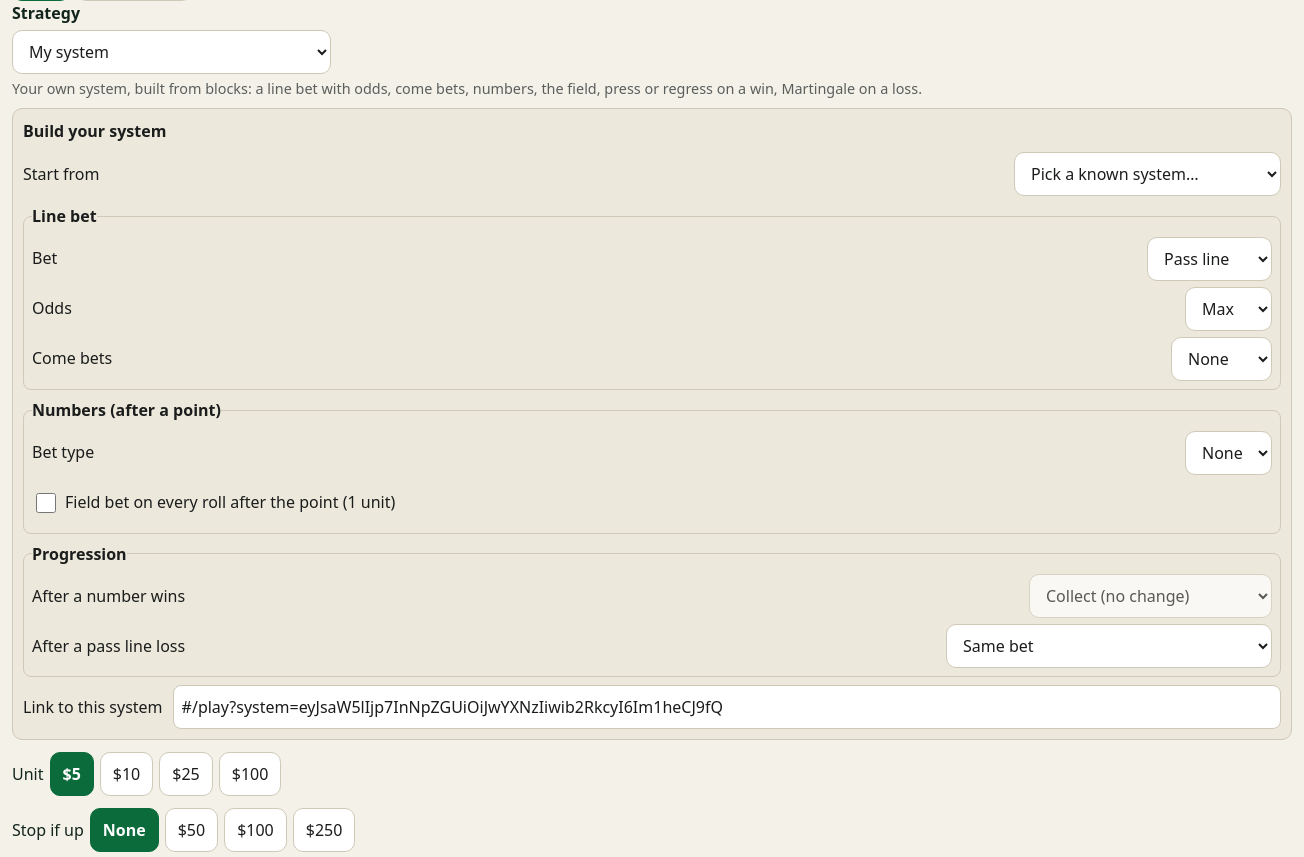
StrategyBuilder in the auto-roll panel › builds a Molly with a Martingale guard and runs it
Select "Up to 2" in the dropdown labelled "Come bets": (1222, 359) [1171,337,1272,381]
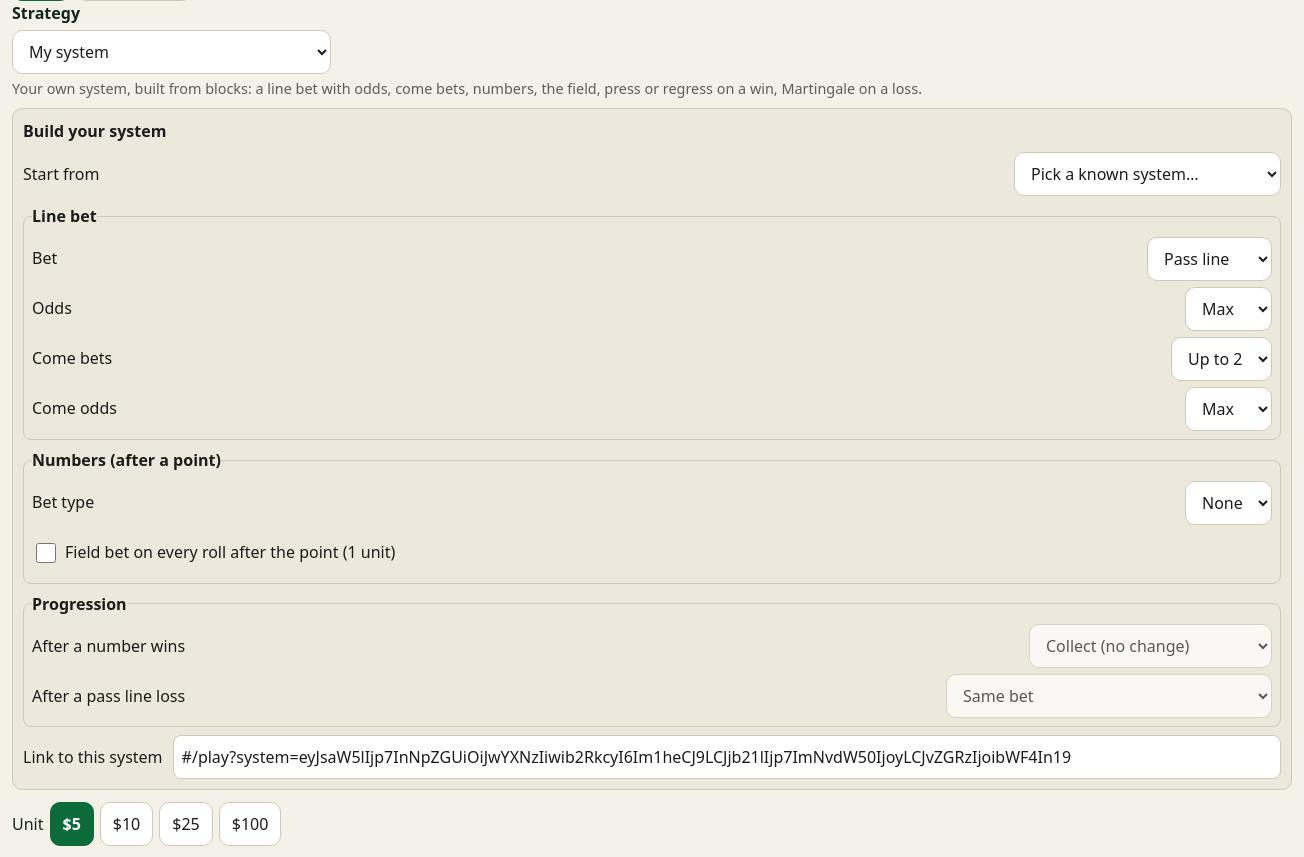
Select "2x" in the dropdown labelled "Come odds": (1228, 409) [1185,387,1272,431]
(page scrolled)
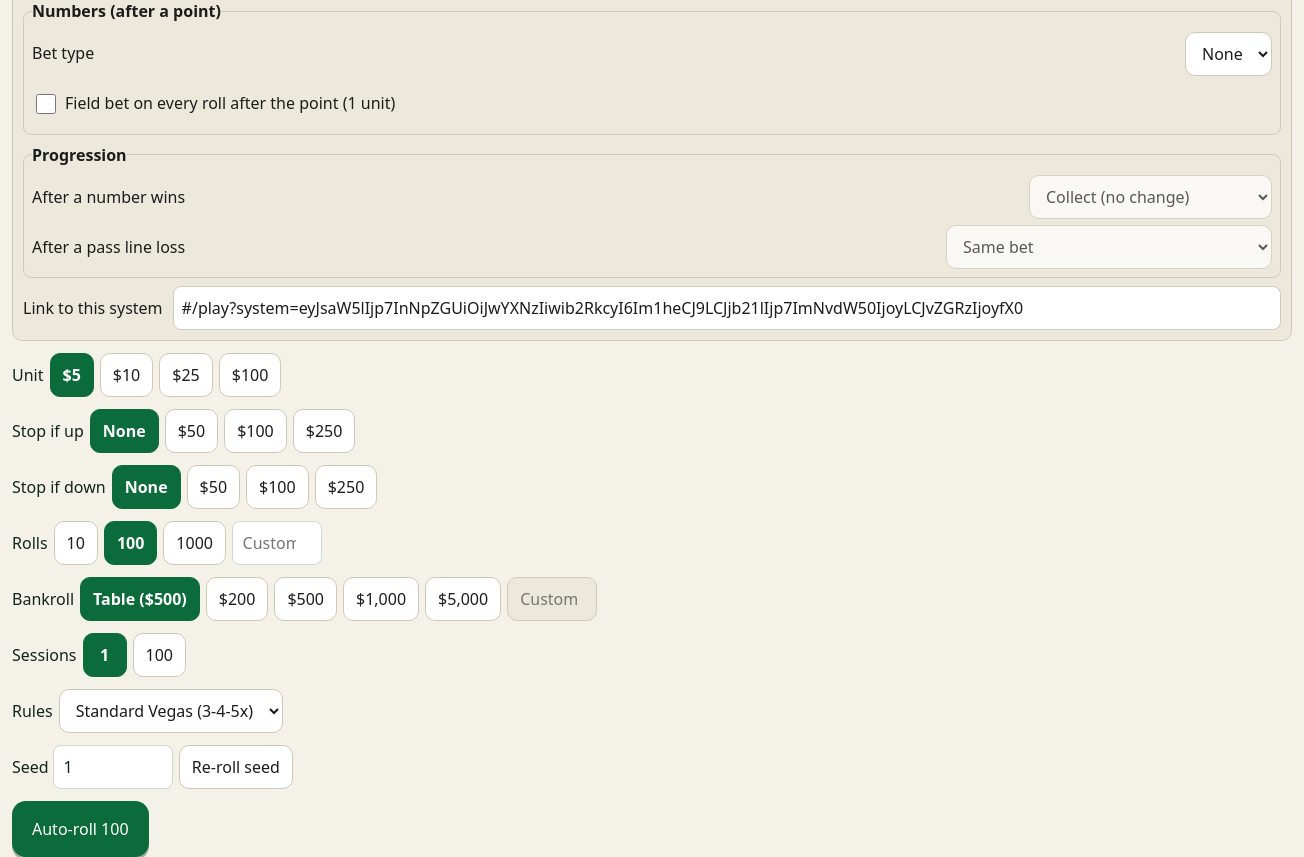
Click the button with test id "auto-roll-run": (80, 829) [12,801,149,856]
(page scrolled)
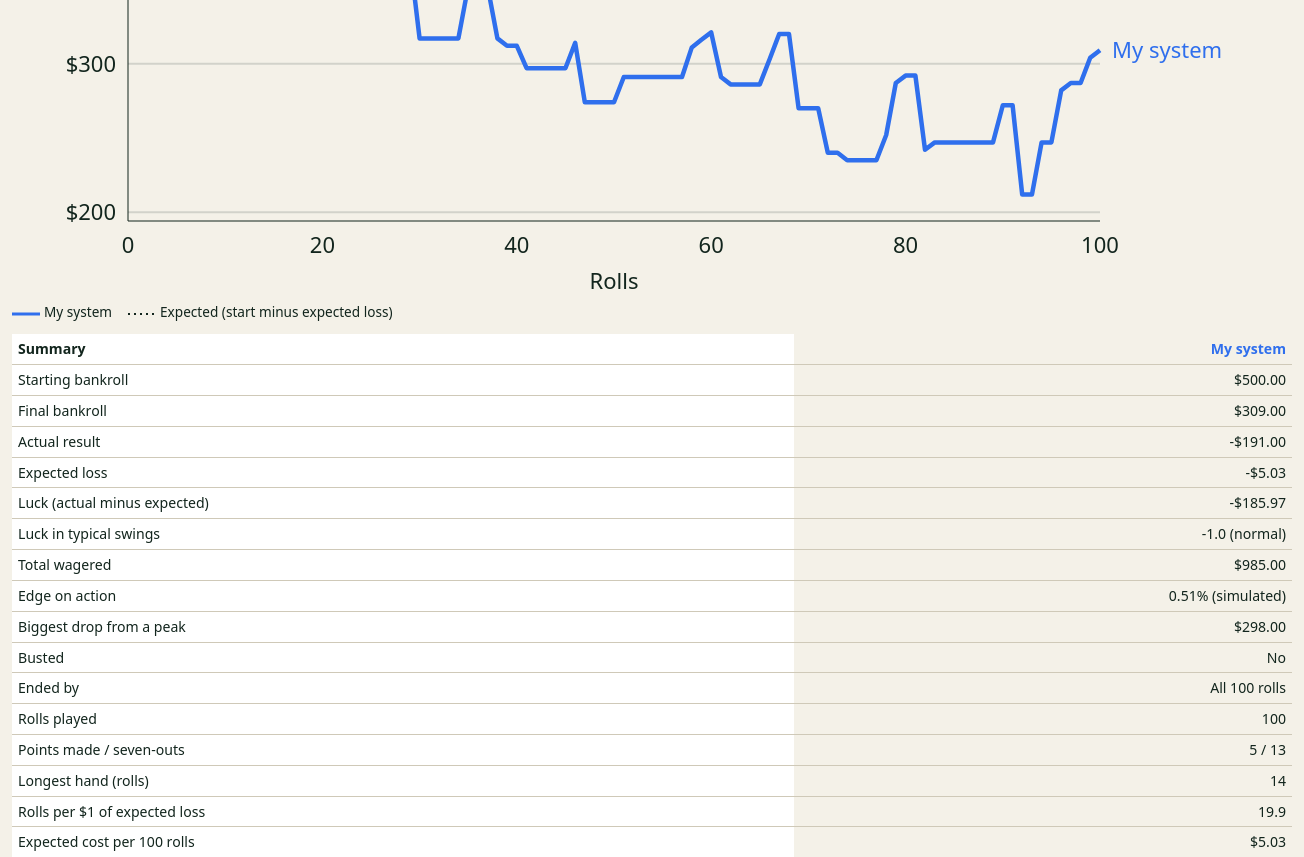
Check: the table with test id "auto-roll-summary" is shown, box [12,334,1292,856]
